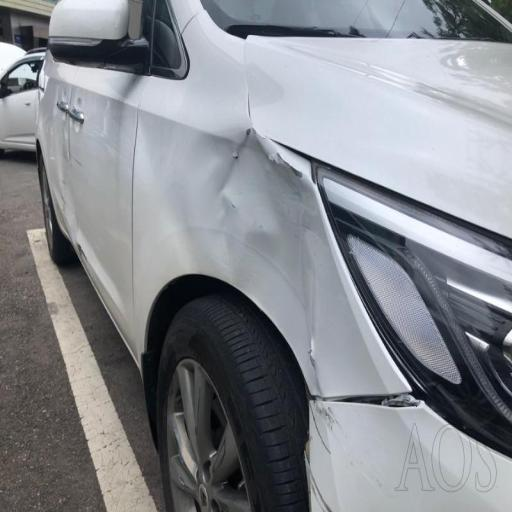dent: (182, 87, 358, 388)
scratch: (292, 359, 362, 503)
